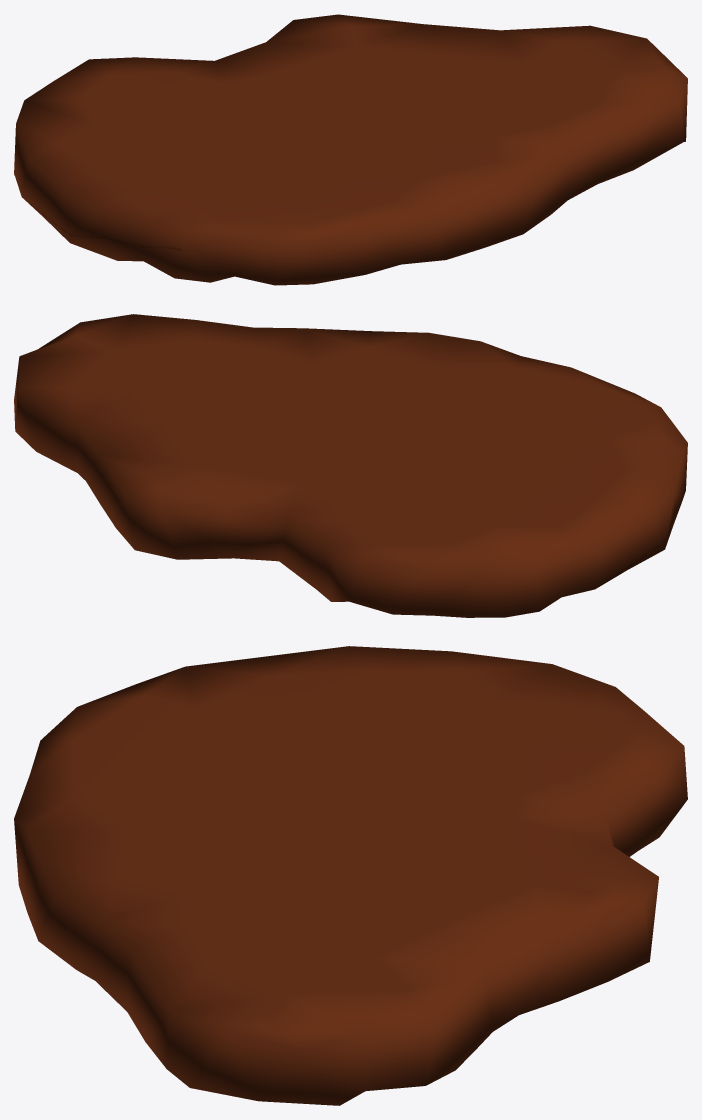
Rendered from seamed_steak8_29.fbx.
3 renders of one model, top to bottom at view 1: azimuth 30°, elevation 25°; view 2: azimuth 150°, elevation 25°; view 3: azimuth 270°, elevation 25°, orthographic. The views are drawn at different scales.
Visible parts, largest first — view 1: steak__1__LOD3_LOD1; view 2: steak__1__LOD3_LOD1; view 3: steak__1__LOD3_LOD1.
Boxes of the visible parts, x1,y1,x2,y2 form: steak__1__LOD3_LOD1: [14, 14, 687, 285]; steak__1__LOD3_LOD1: [14, 314, 687, 617]; steak__1__LOD3_LOD1: [14, 646, 687, 1105].
Bounding box in the file's own units: 20.29 × 1.81 × 14.65.
Materials: 1 (1 with a texture image).
